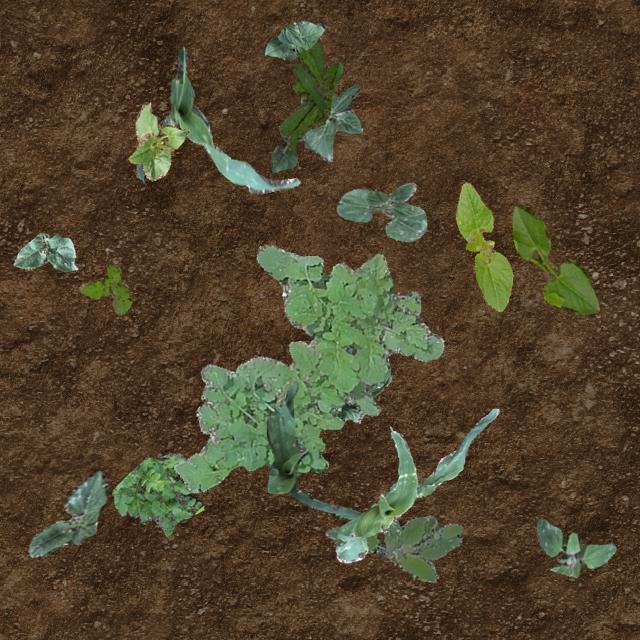crop: (336, 408, 498, 562), (134, 46, 298, 192), (266, 382, 360, 518), (512, 204, 598, 314), (454, 182, 512, 310), (28, 469, 108, 556), (336, 182, 426, 240), (128, 102, 188, 180), (304, 84, 362, 160), (330, 374, 390, 422), (12, 232, 78, 270), (262, 20, 324, 58), (270, 132, 310, 172)
weed: (172, 243, 442, 492), (324, 514, 462, 582), (112, 452, 202, 534), (278, 36, 342, 150), (534, 518, 614, 576), (78, 262, 130, 314)
